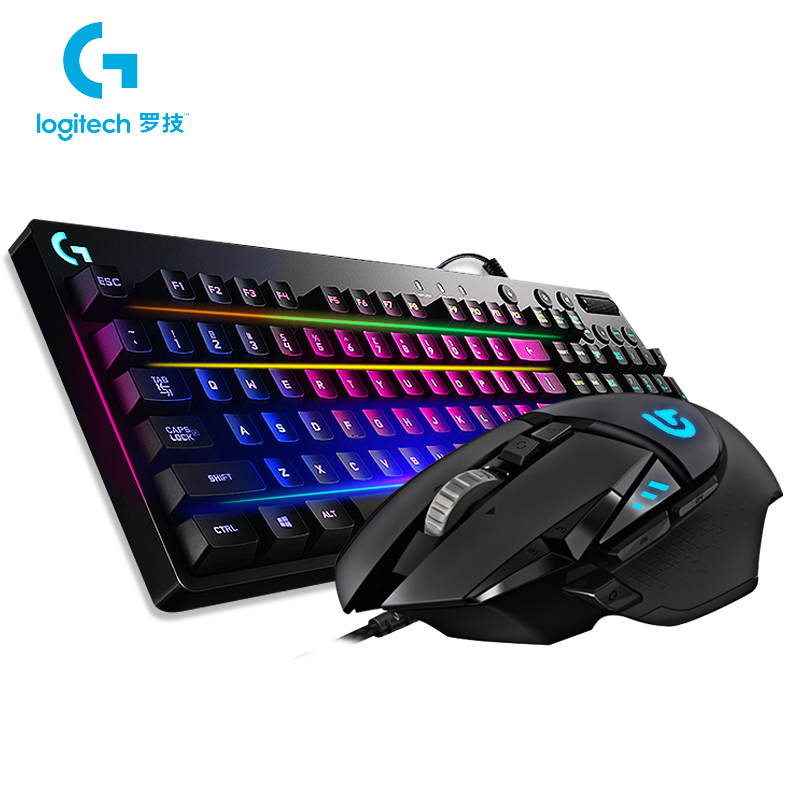keyboard: (9, 217, 695, 615)
mouse: (335, 393, 782, 643)
